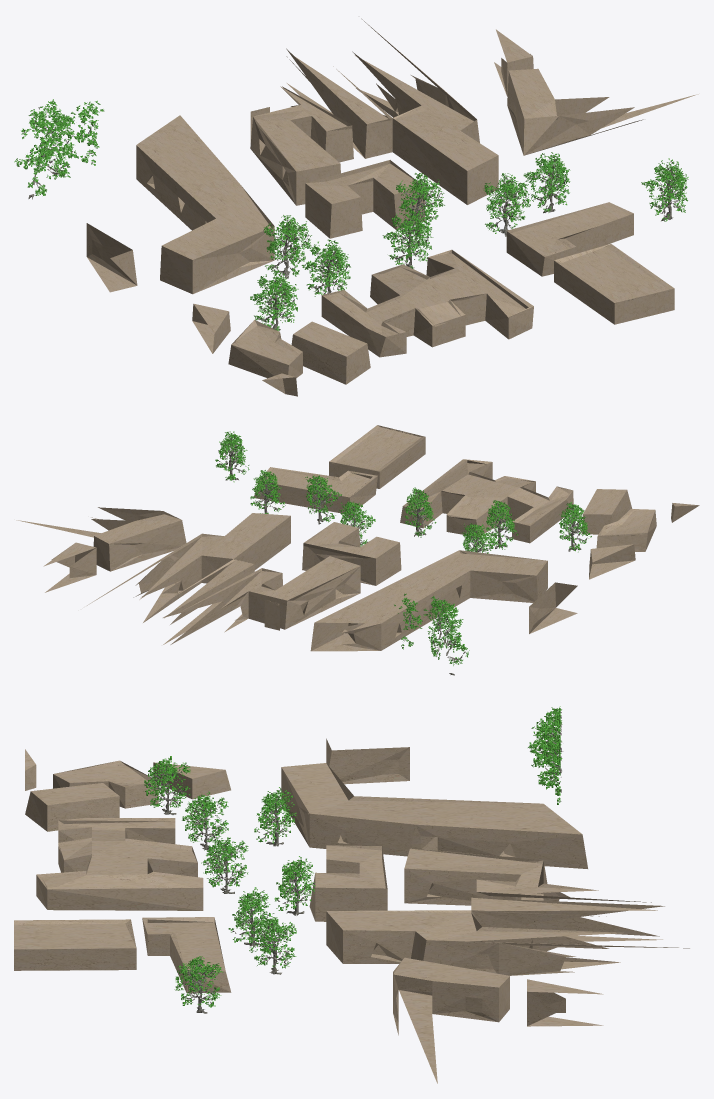
Rendered from tile_0_1.gltf.
3 renders of one model, top to bottom at view 1: azimuth 30°, elevation 25°; view 2: azimuth 150°, elevation 25°; view 3: azimuth 270°, elevation 25°, orthographic. The views are drawn at different scales.
Visible parts, largest first — view 1: Plane.011@tile_0_1, Bodhi Tree_Bodhi_front_2_Mat_0.044@tile_0_1; view 2: Plane.011@tile_0_1, Bodhi Tree_Bodhi_front_2_Mat_0.044@tile_0_1; view 3: Plane.011@tile_0_1, Bodhi Tree_Bodhi_front_2_Mat_0.044@tile_0_1.
Boxes of the visible parts, box(x1,y1,x2,y2) form: Plane.011@tile_0_1: box(86, 18, 698, 396); Bodhi Tree_Bodhi_front_2_Mat_0.044@tile_0_1: box(14, 99, 688, 330); Plane.011@tile_0_1: box(16, 425, 699, 651); Bodhi Tree_Bodhi_front_2_Mat_0.044@tile_0_1: box(215, 431, 591, 675); Plane.011@tile_0_1: box(14, 738, 689, 1083); Bodhi Tree_Bodhi_front_2_Mat_0.044@tile_0_1: box(144, 706, 563, 1013).
Bounding box in the file's own units: 120 × 16.57 × 111.
Materials: 3 (2 with a texture image).
